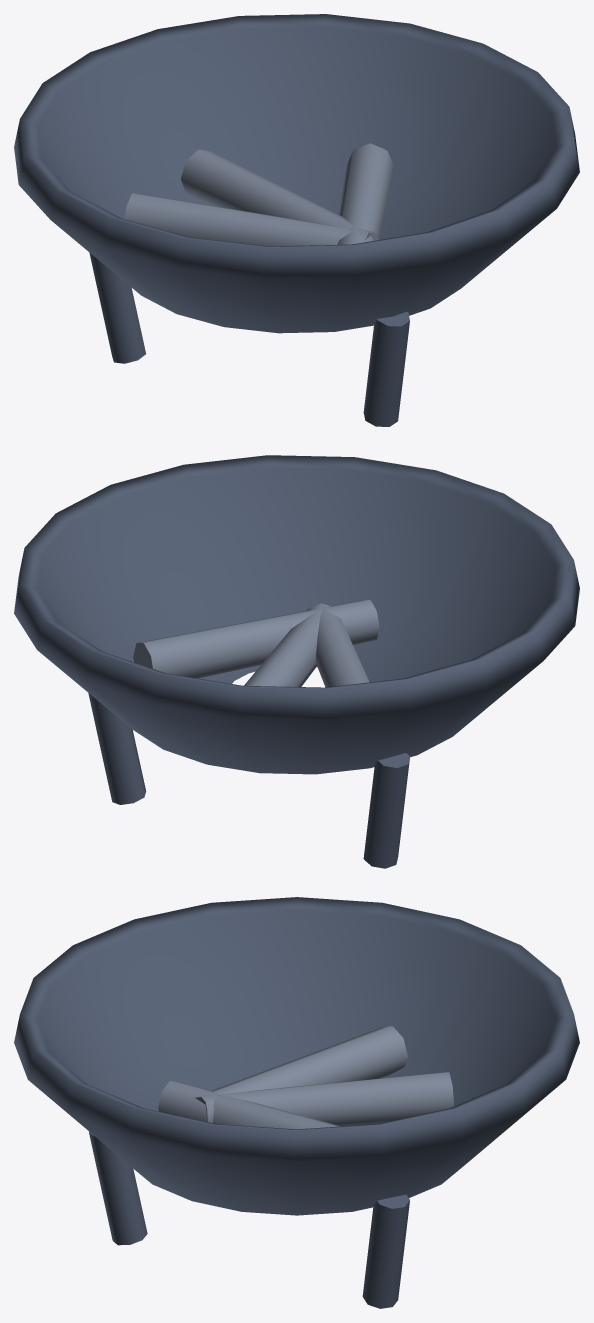
The model's file is garden-firepit-lite.glb.
3 views of the same model, one above another, from view 1: azimuth 30°, elevation 25°; view 2: azimuth 150°, elevation 25°; view 3: azimuth 270°, elevation 25° (orthographic).
Visible parts, largest first — view 1: garden-firepit; view 2: garden-firepit; view 3: garden-firepit.
Boxes of the visible parts, box(x1,y1,x2,y2) form: garden-firepit: box(14, 14, 579, 426); garden-firepit: box(14, 455, 579, 868); garden-firepit: box(14, 897, 579, 1308).
Size of the model in its own units: 0.95 by 0.42 by 0.95.
